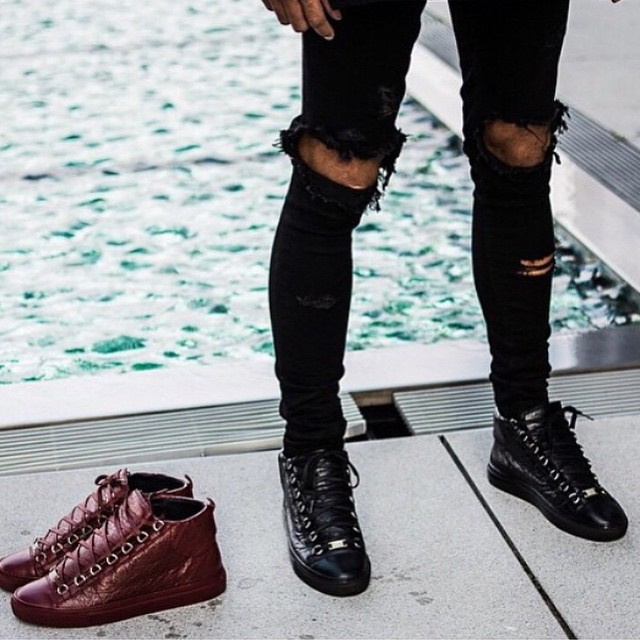sneaker: (470, 393, 640, 555), (258, 400, 385, 613)
